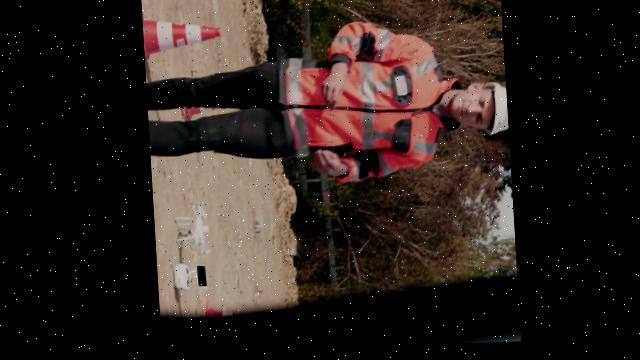drone: (168, 203, 208, 259)
